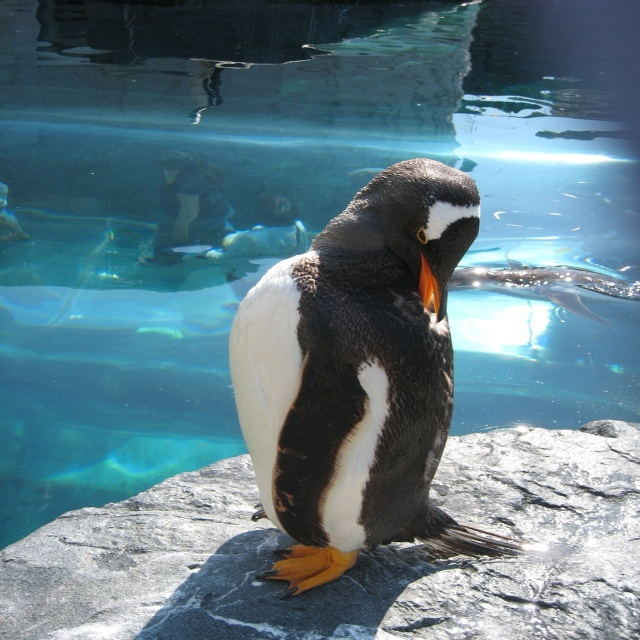Penguin: (225, 159, 522, 592)
